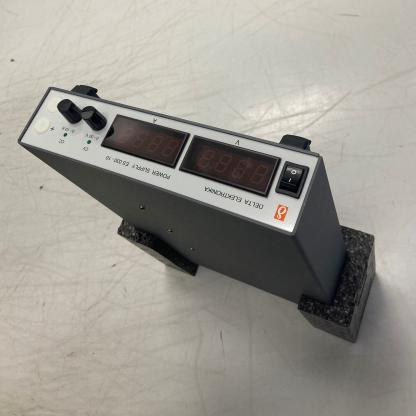SP0000005: (8, 45, 415, 399)
